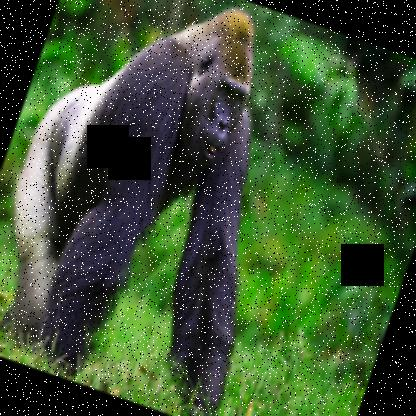Gorilla gorilla: (0, 0, 346, 415)
